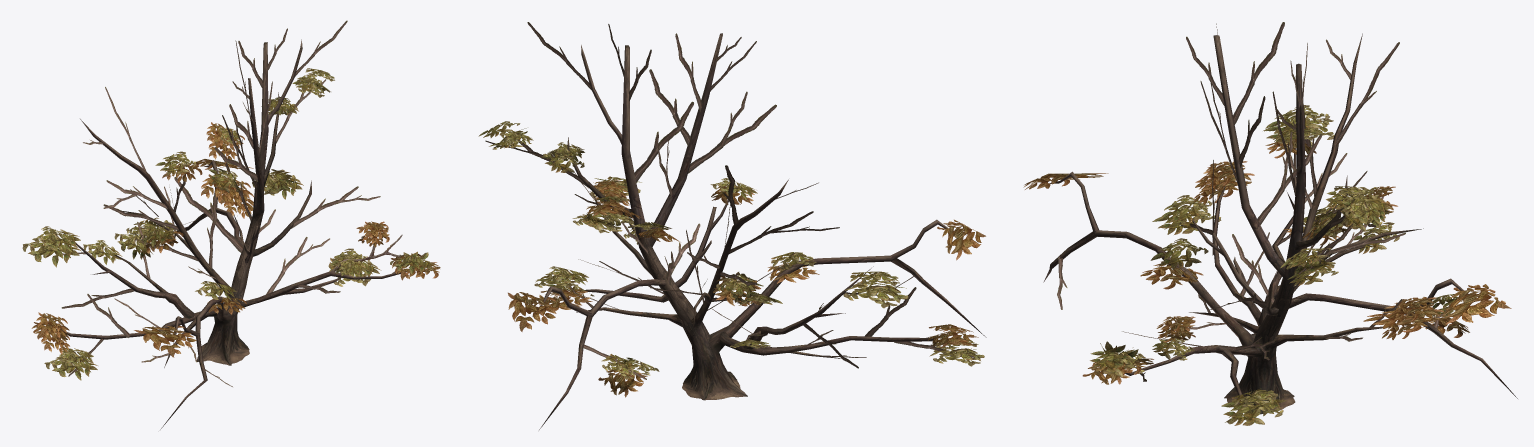
File: Plant_2.FBX
3 renders of one model, left to right at view 1: azimuth 30°, elevation 25°; view 2: azimuth 150°, elevation 25°; view 3: azimuth 270°, elevation 25°, orthographic. The views are drawn at different scales.
Parts seen in each view (by area): view 1: Plant_2; view 2: Plant_2; view 3: Plant_2.
Boxes of the visible parts, x1,y1,x2,y2 form: Plant_2: [22, 20, 440, 429]; Plant_2: [478, 22, 986, 429]; Plant_2: [1023, 22, 1517, 425].
Bounding box in the file's own units: 265 × 208 × 235.
